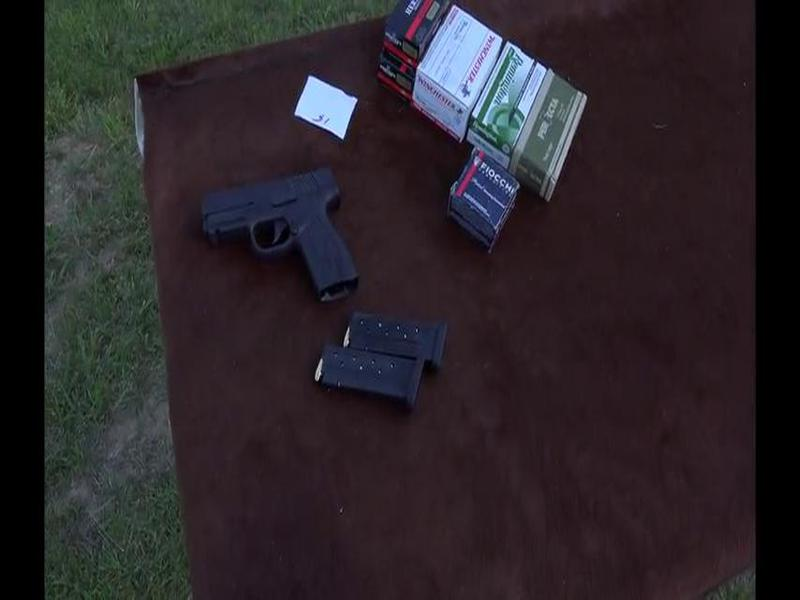Pistola: (191, 168, 372, 307)
